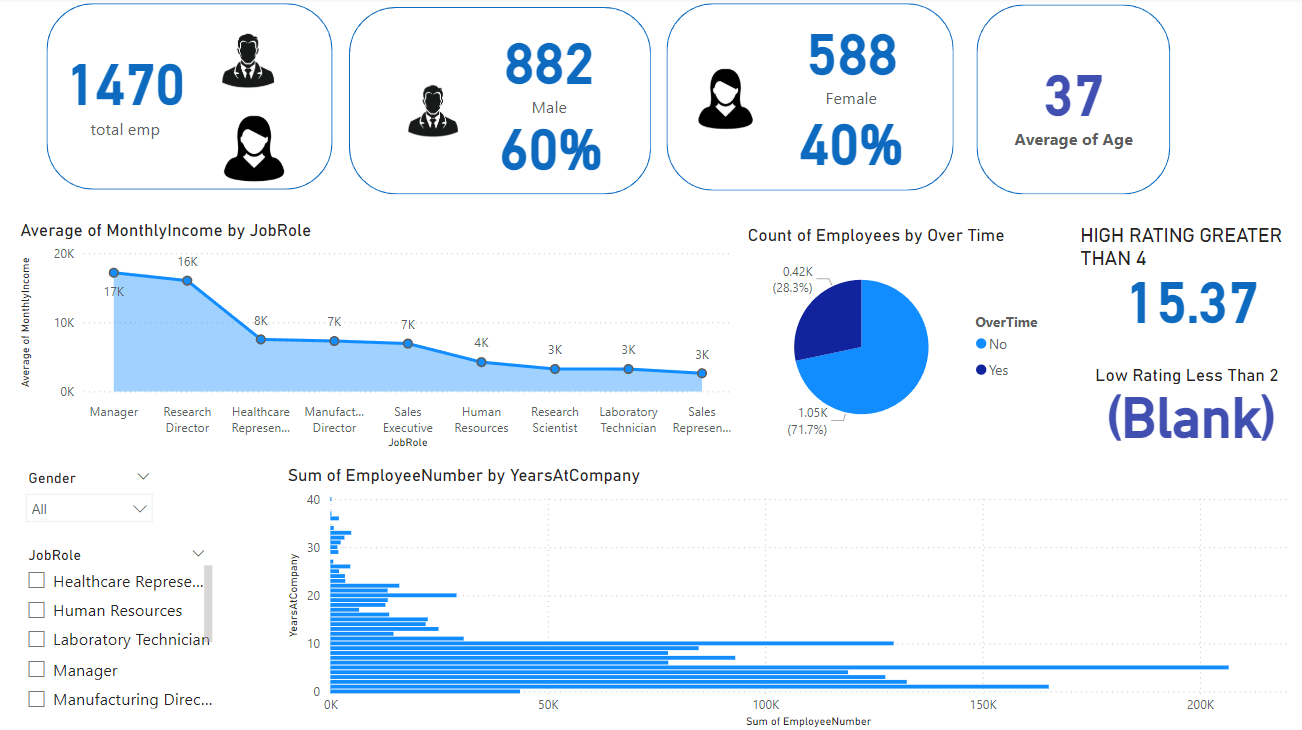

This screenshot's page, from the dashboard's own definition file:
{"tool":"powerbi","page":{"name":"HR data Analytics","canvas":[1280,720],"ordinal":0},"visuals":[{"type":"shape","box":[46.5,6.6,279.8,182.3],"z":0,"group":"g1"},{"type":"shape","box":[956.3,7.3,189.5,185.9],"z":0},{"type":"shape","box":[342,9.9,295.6,183.3],"z":1000,"group":"g1"},{"type":"group","id":"g1","title":"Group 1","box":[46.5,6.1,887.8,187.1],"z":1000},{"type":"shape","box":[653.3,6.1,281,183.4],"z":2000,"group":"g1"},{"type":"card","fields":{"Values":["Measures Table.total emp"]},"box":[60.4,32.9,127.6,113.9],"z":2000},{"type":"card","fields":{"Values":["Measures Table.Male"]},"box":[473.4,12.3,130.4,113.9],"z":3000},{"type":"card","fields":{"Values":["Measures Table.Female"]},"box":[770.4,9.8,127.2,101.5],"z":4000},{"type":"card","fields":{"Values":["Measures Table.male %"]},"box":[473.4,118,133.1,70],"z":5000},{"type":"card","fields":{"Values":["Measures Table.female %"]},"box":[770.4,113.7,127.2,68.5],"z":6000},{"type":"image","box":[171.5,105.7,156.4,83.7],"z":7000},{"type":"image","box":[160.5,12.3,167.4,100.2],"z":8000},{"type":"image","box":[661.4,60.4,98.8,76.8],"z":9000},{"type":"image","box":[358.1,35.7,133.1,152.3],"z":10000},{"type":"card","fields":{"Values":["Avg(HR Analytics Data.Age)"]},"box":[985.6,35.5,132.1,129.6],"z":11000},{"type":"lineChart","fields":{"Category":["HR Analytics Data.JobRole"],"Y":["Avg(HR Analytics Data.MonthlyIncome)"]},"box":[16.5,218.2,710.8,229.2],"z":12000},{"type":"pieChart","title":"Count of Employees by Over Time","fields":{"Category":["HR Analytics Data.OverTime"],"Y":["Count(HR Analytics Data.EmployeeNumber)"]},"box":[727.3,222.3,311.5,220.9],"z":13000},{"type":"card","title":"HIGH RATING GREATER THAN 4","fields":{"Values":["Measures Table.HighRating"]},"box":[1052.5,222.3,227.8,116.6],"z":14000},{"type":"card","title":"Low Rating Less Than 2","fields":{"Values":["Measures Table.LowRating"]},"box":[1067.5,359.5,198.1,92.9],"z":15000},{"type":"barChart","fields":{"Category":["HR Analytics Data.YearsAtCompany"],"Y":["Sum(HR Analytics Data.EmployeeNumber)"]},"box":[277.6,457.3,1001.5,262.9],"z":16000},{"type":"slicer","fields":{"Values":["HR Analytics Data.Gender"]},"box":[15.9,457.3,144.3,74.6],"z":17000},{"type":"slicer","fields":{"Values":["HR Analytics Data.JobRole"]},"box":[15.9,531.9,198.1,168.8],"z":18000}]}

Visuals, with their boxes in screenshot pixels (x1, y1, x2, y2), scaled from the page's 1280x720 canvas onto the 1302x730 screenshot:
shape: 47 7 332 192
shape: 973 7 1165 196
shape: 348 10 649 196
"Group 1" group: 47 6 950 196
shape: 665 6 950 192
card - Measures Table.total emp: 61 33 191 149
card - Measures Table.Male: 482 12 614 128
card - Measures Table.Female: 784 10 913 113
card - Measures Table.male %: 482 120 617 191
card - Measures Table.female %: 784 115 913 185
image: 174 107 334 192
image: 163 12 334 114
image: 673 61 773 139
image: 364 36 500 191
card - Avg(HR Analytics Data.Age): 1003 36 1137 167
lineChart - HR Analytics Data.JobRole x Avg(HR Analytics Data.MonthlyIncome): 17 221 740 454
"Count of Employees by Over Time" pieChart: 740 225 1057 449
"HIGH RATING GREATER THAN 4" card: 1071 225 1301 344
"Low Rating Less Than 2" card: 1086 364 1287 459
barChart - HR Analytics Data.YearsAtCompany x Sum(HR Analytics Data.EmployeeNumber): 282 464 1301 729
slicer - HR Analytics Data.Gender: 16 464 163 539
slicer - HR Analytics Data.JobRole: 16 539 218 710
